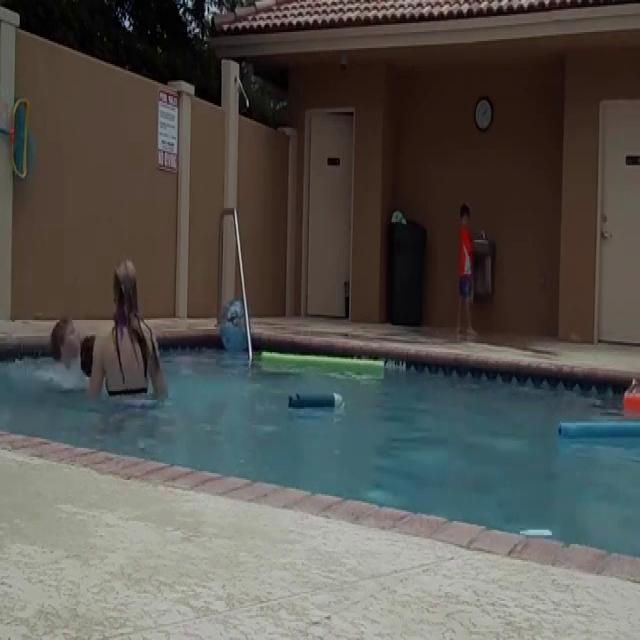adult: (88, 264, 170, 407)
child: (450, 203, 482, 341), (50, 317, 82, 391), (79, 325, 100, 393)
